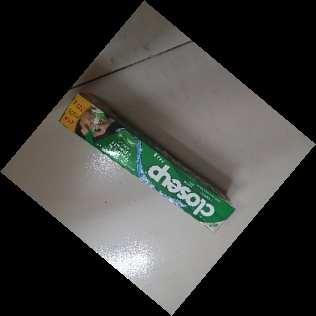CloseUp Xanh: (58, 91, 236, 233)
